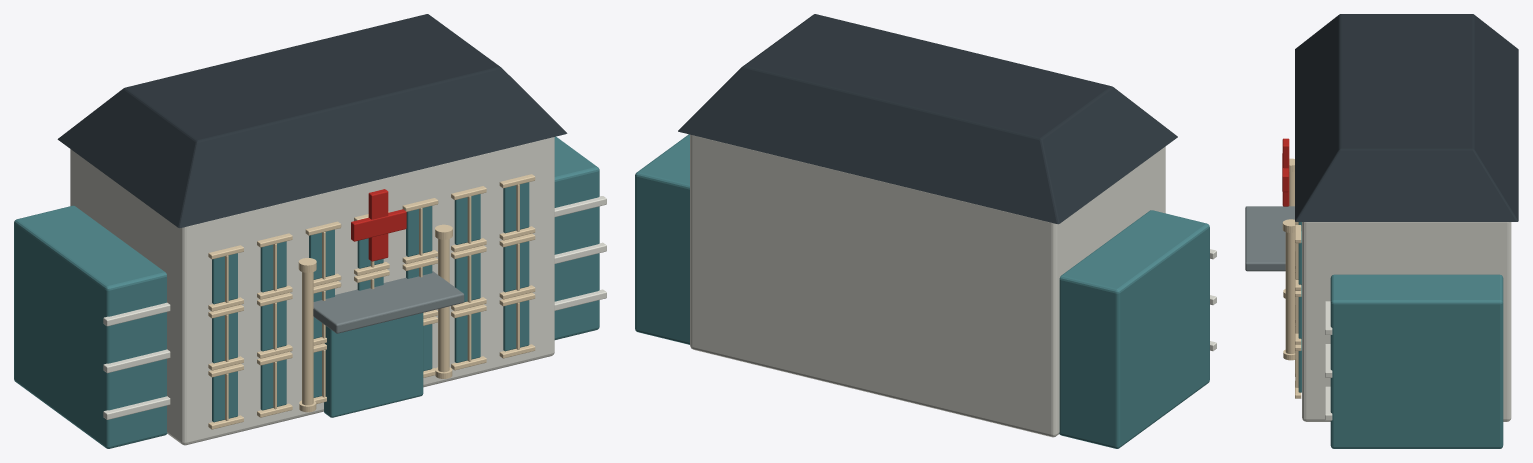
File: paris-hospital.glb
3 views of the same model, side by side, from view 1: azimuth 30°, elevation 25°; view 2: azimuth 150°, elevation 25°; view 3: azimuth 270°, elevation 25° (orthographic). The views are drawn at different scales.
Visible parts, largest first — view 1: Optimized Paris landmark; view 2: Optimized Paris landmark; view 3: Optimized Paris landmark.
Part boxes in pixels (bbox=[...]): Optimized Paris landmark: bbox=[14, 14, 606, 448]; Optimized Paris landmark: bbox=[635, 14, 1216, 448]; Optimized Paris landmark: bbox=[1245, 14, 1518, 448].
Bounding box in the file's own units: 12.86 × 6.95 × 6.65.
